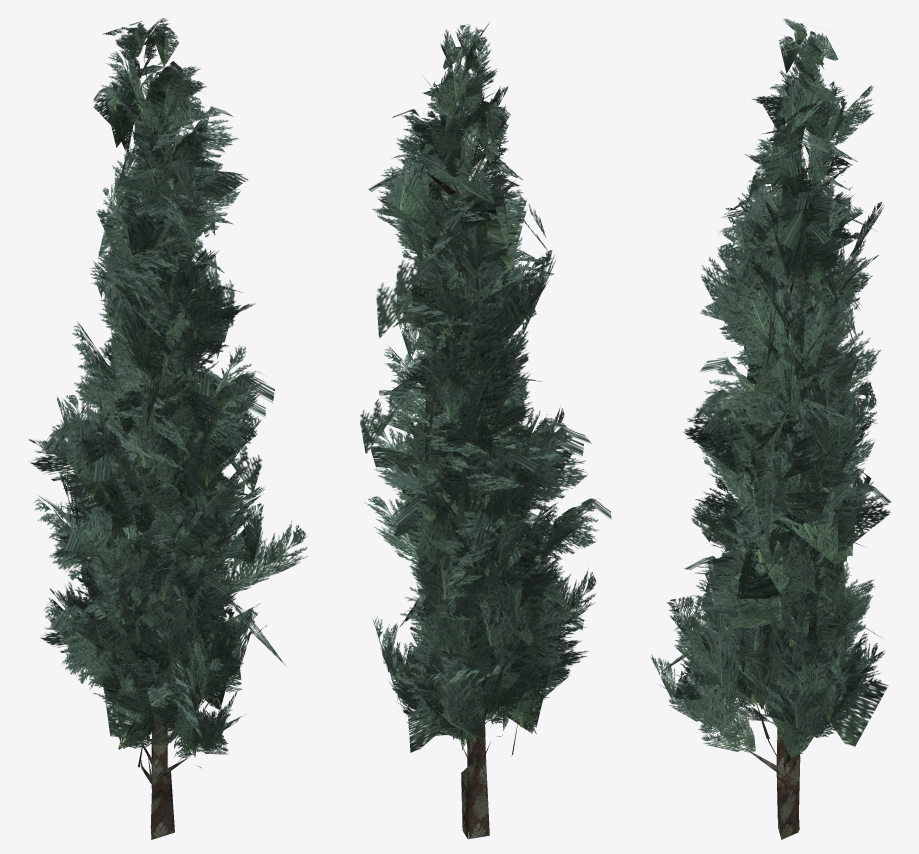
File: tree-cypress.glb
3 views of the same model, side by side, from view 1: azimuth 30°, elevation 25°; view 2: azimuth 150°, elevation 25°; view 3: azimuth 270°, elevation 25° (orthographic).
Parts seen in each view (by area): view 1: tree-cypress; view 2: tree-cypress; view 3: tree-cypress.
Part boxes in pixels (x1,y1,x2,y2): tree-cypress: (28, 18, 307, 839); tree-cypress: (360, 22, 611, 839); tree-cypress: (651, 18, 891, 839).
Size of the model in its own units: 5.03 by 15.67 by 4.61.
Materials: 2 (2 with a texture image).
